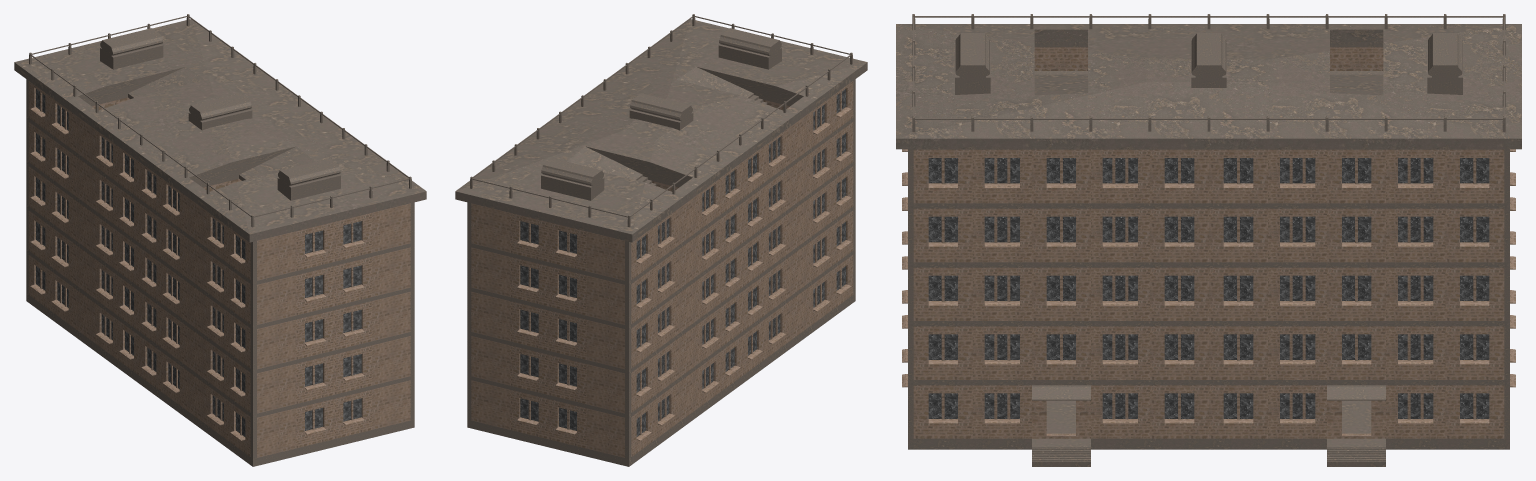
Rendered from predio_apartamentos.glb.
The picture shows the model from 3 angles, left to right: view 1: azimuth 30°, elevation 25°; view 2: azimuth 150°, elevation 25°; view 3: azimuth 270°, elevation 25°; orthographic projection. The views are drawn at different scales.
Parts seen in each view (by area): view 1: Building; view 2: Building; view 3: Building.
Boxes of the visible parts, x1,y1,x2,y2 form: Building: (14,14,426,466); Building: (455,14,867,466); Building: (896,14,1521,466).
Bounding box in the file's own units: 10.2 × 13 × 21.2.
4 materials, 4 textured.
